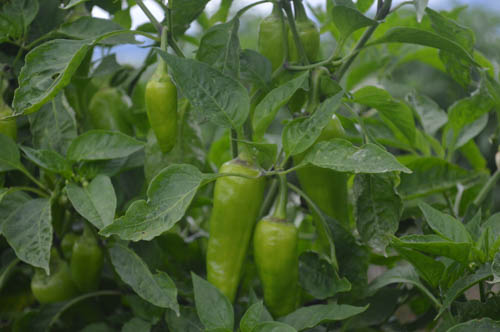ChiliPepper: (208, 164, 258, 305), (300, 118, 352, 219), (253, 220, 301, 313), (144, 78, 181, 153), (89, 89, 131, 136), (70, 242, 107, 289), (31, 274, 75, 302)
